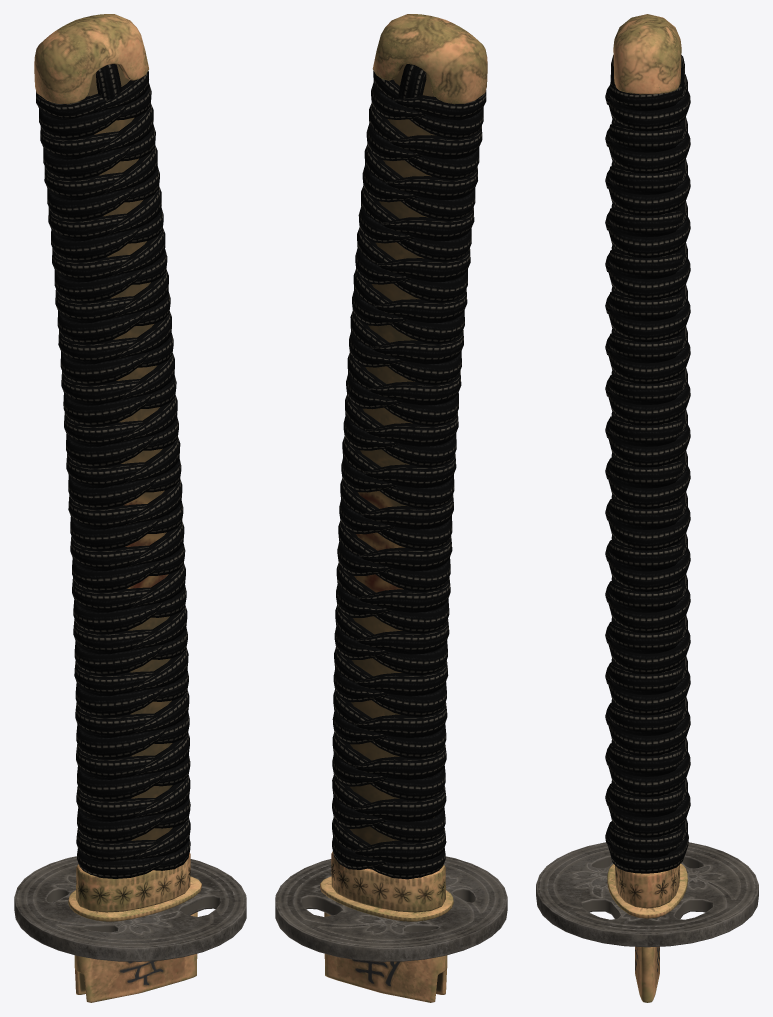
File: Empunadura1.obj
3 views of the same model, side by side, from view 1: azimuth 30°, elevation 25°; view 2: azimuth 150°, elevation 25°; view 3: azimuth 270°, elevation 25° (orthographic). The views are drawn at different scales.
Visible parts, largest first — view 1: Katana_blade; view 2: Katana_blade; view 3: Katana_blade.
Part boxes in pixels (<box>): Katana_blade: <box>14,14,246,1002</box>; Katana_blade: <box>275,14,507,1002</box>; Katana_blade: <box>536,14,758,1002</box>.
Size of the model in its own units: 0.0703 by 0.3264 by 0.0706.
